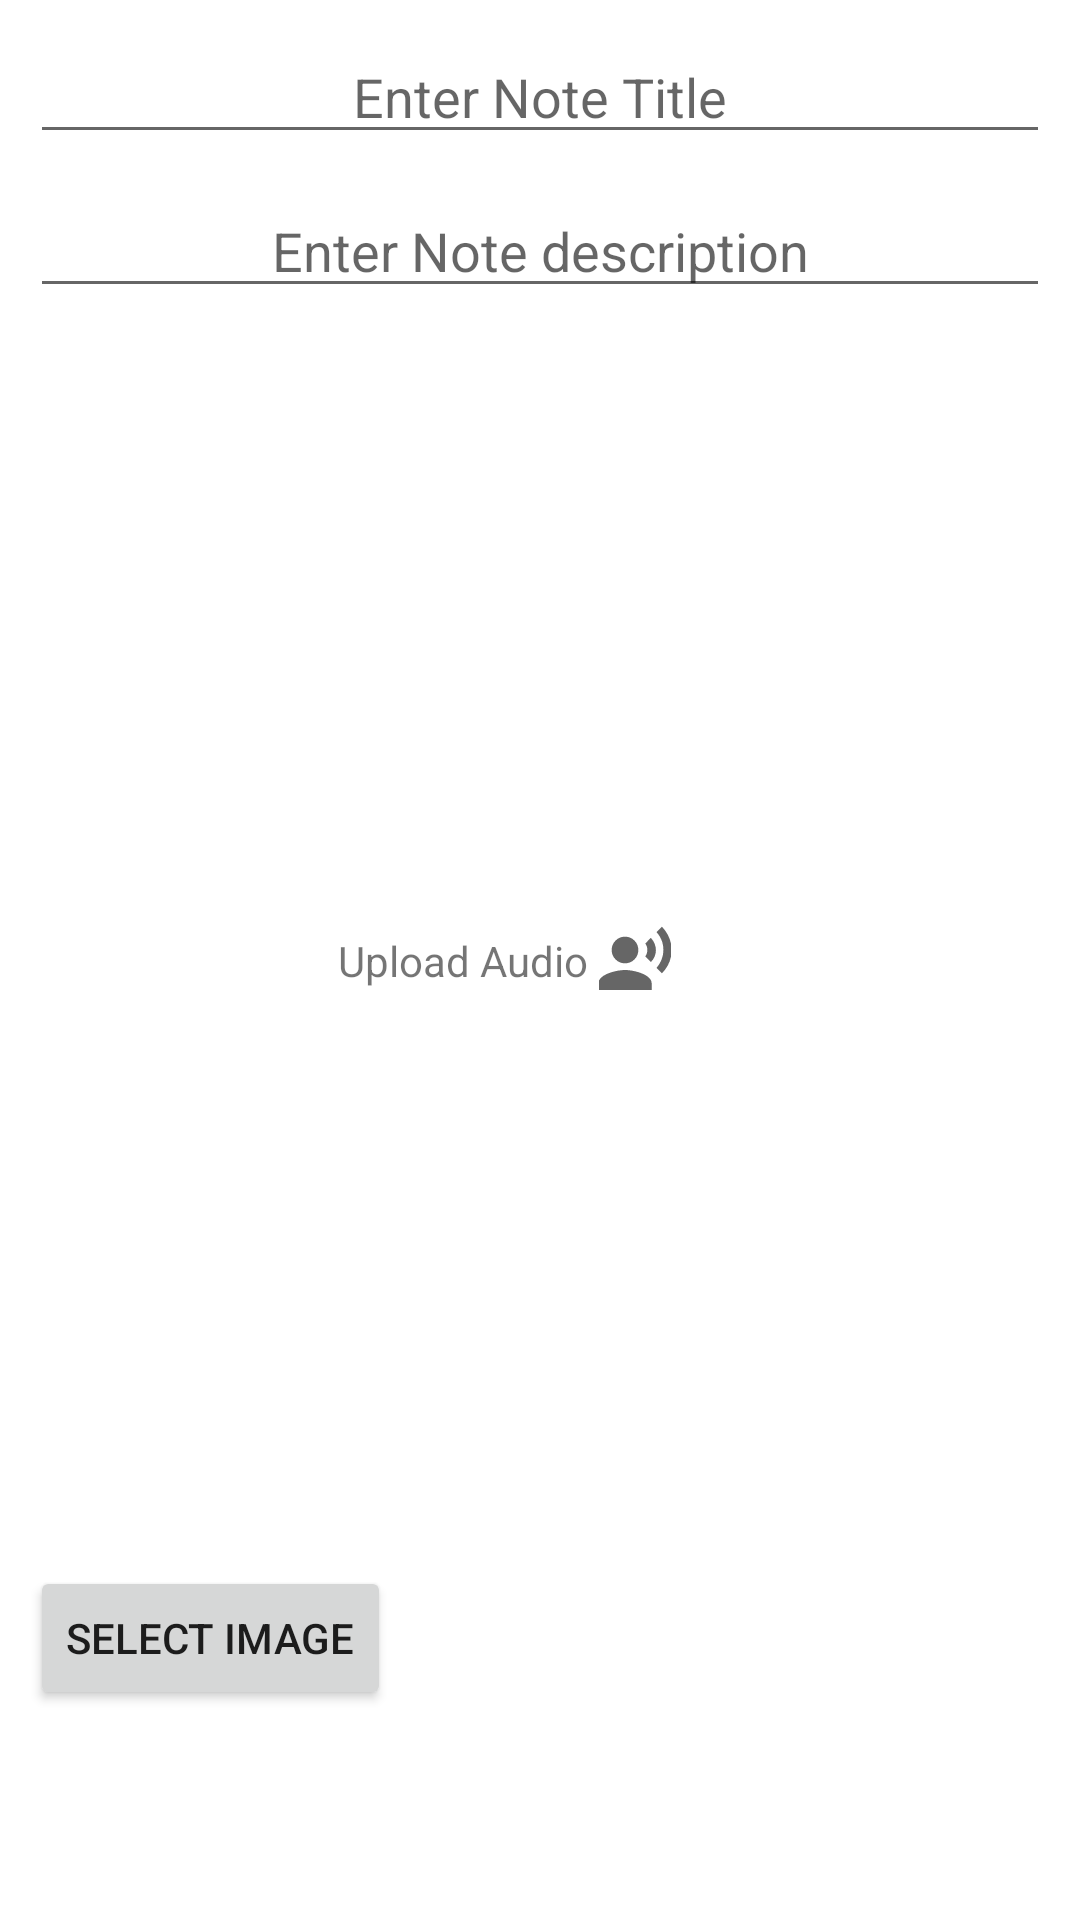

Locate icon controls on the screen. Image size 1080x1920, boxes as (x1, y1, x2, y2).
voice: (599, 927, 671, 990)
